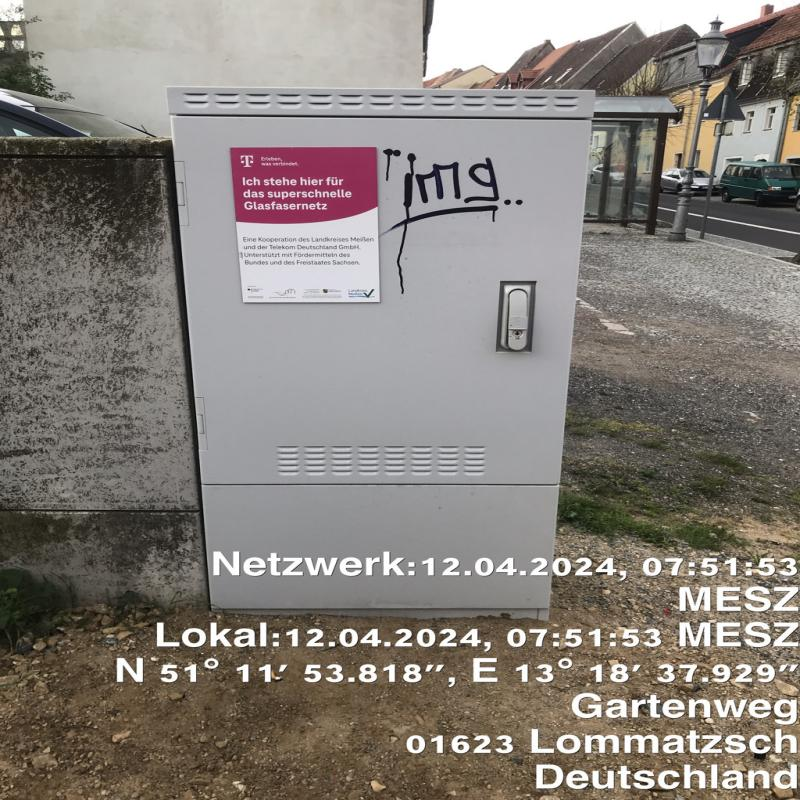NT-Gehause: (170, 87, 594, 606)
Steaker: (231, 147, 380, 302)
